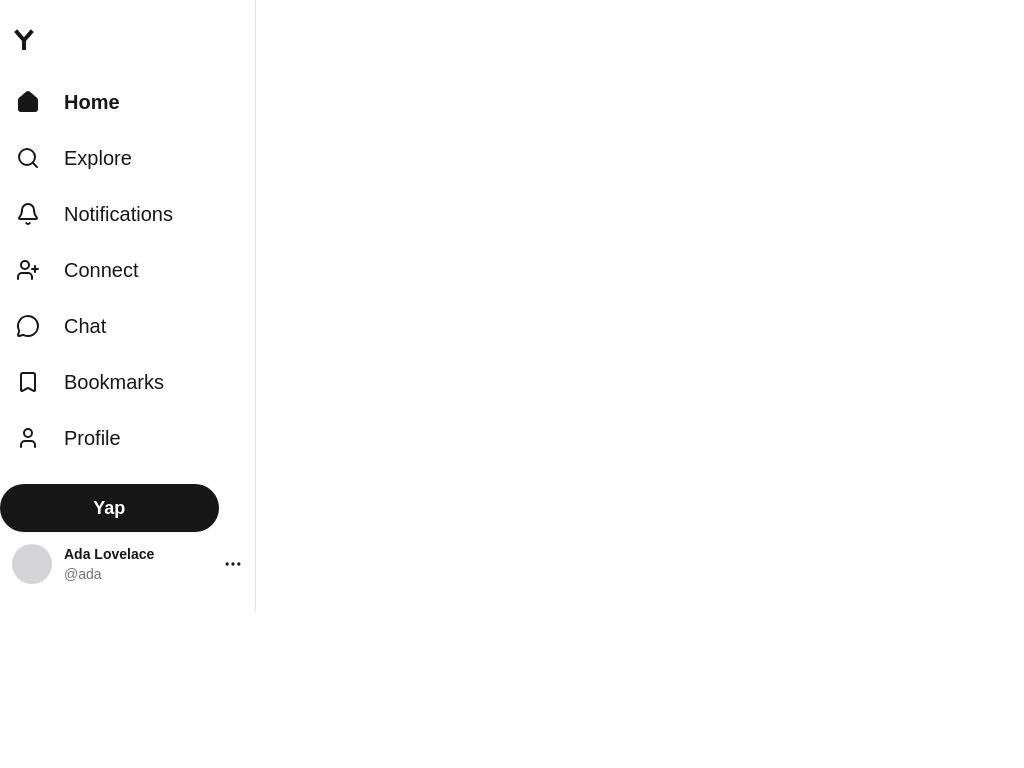
Test case: Nav › opens an account menu with a log out option when the account block is clicked
The image size is (1024, 768).
Click the button "Ada Lovelace @ada" at x=128, y=564, box x1=0 y1=532 x2=255 y2=596
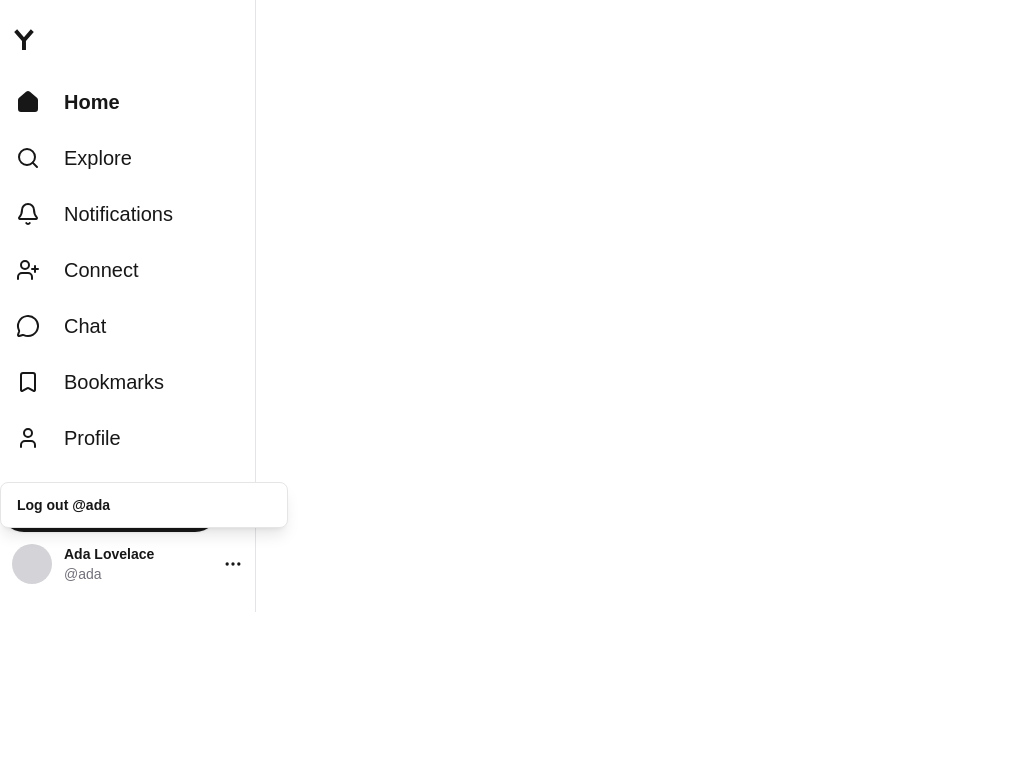
expect the link "Log out @ada" is shown: met, box x1=17 y1=497 x2=110 y2=513
